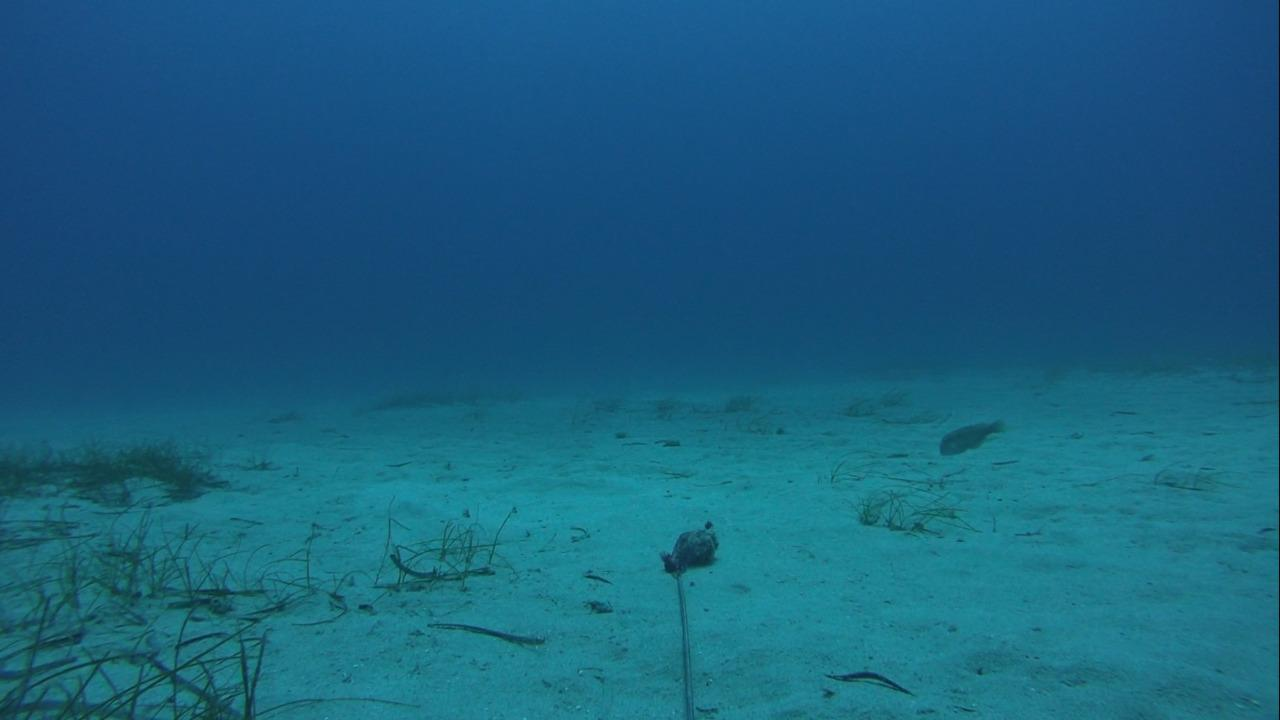raor: (934, 418, 1007, 460)
